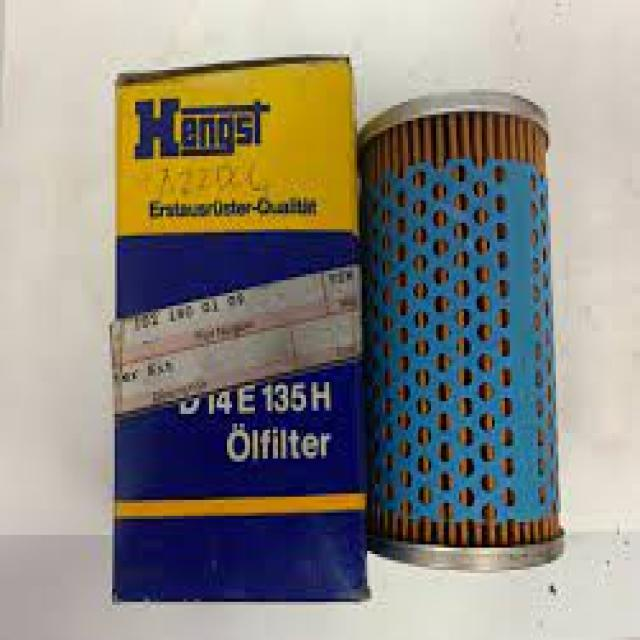oil_filter: (357, 84, 569, 574)
